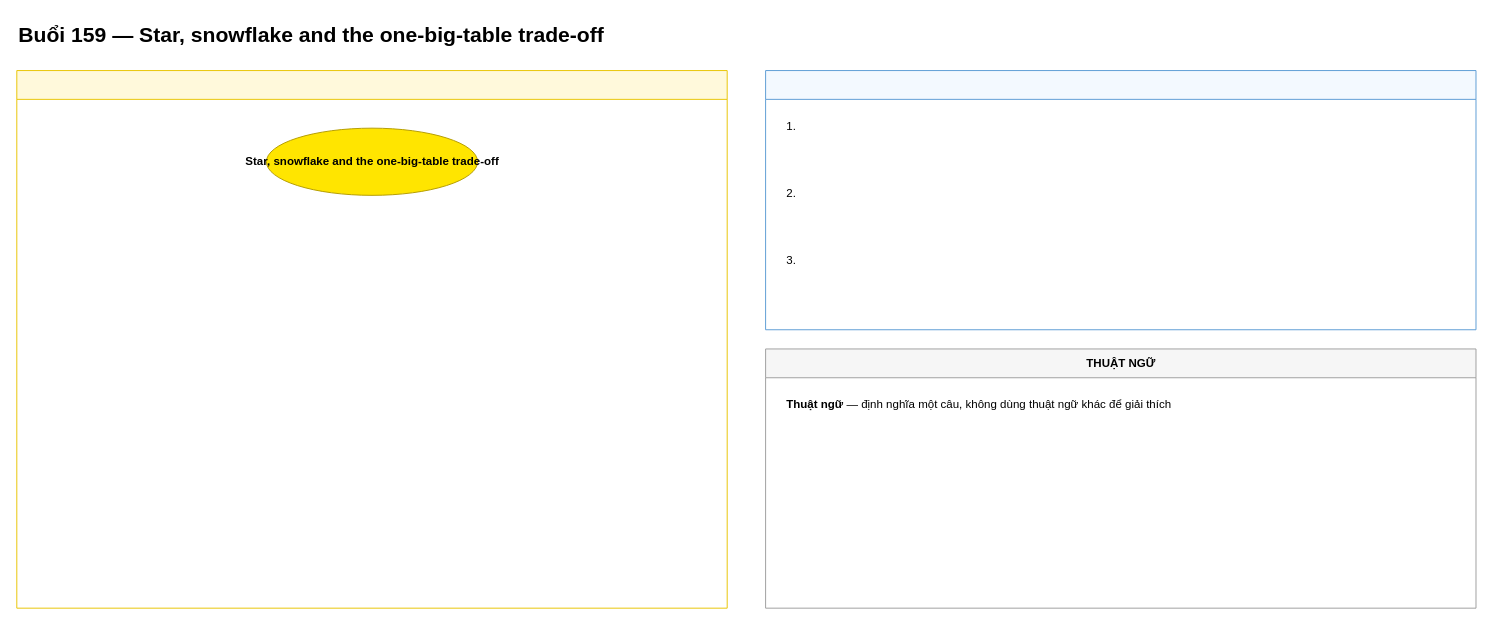
The diagram is 1493 pixels wide and 625 high, and some of its shapes have lost their labels. The shapes that lost their labels are listed below. From the top down, each one's box as (x1, y1, x2, y2) in pixels, then its label:
(765, 70, 1476, 330): KEY TAKEAWAY — ba điều phải nhớ
(16, 70, 727, 608): MINDMAP
